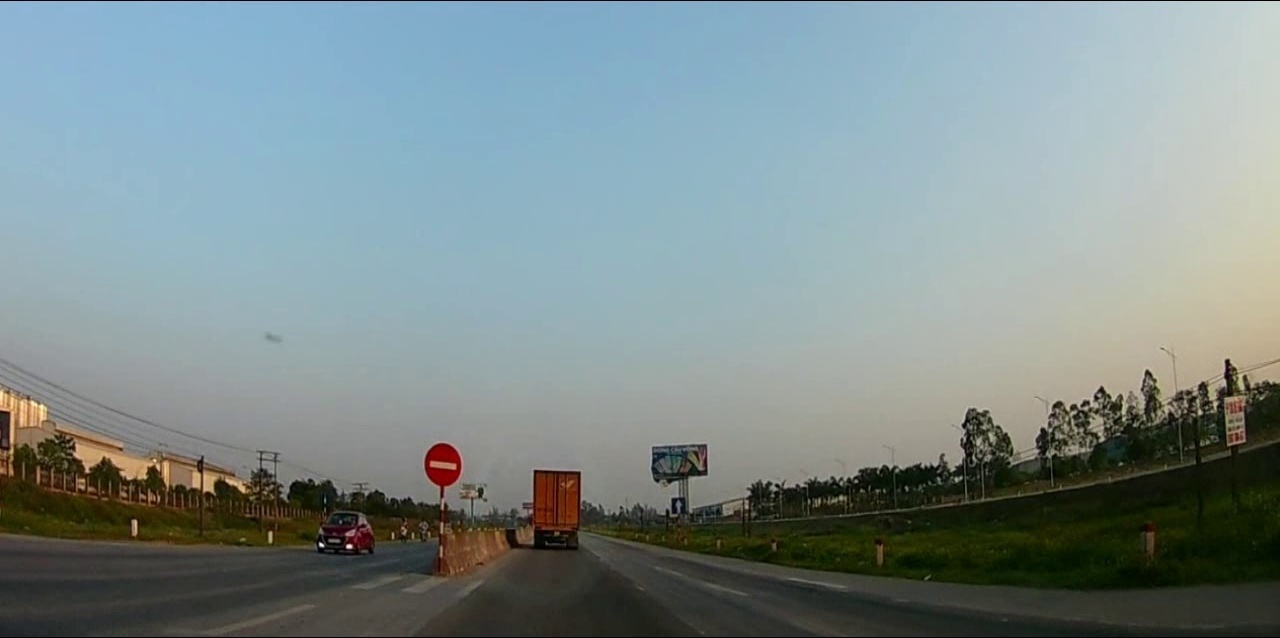Bien khac: (670, 495, 686, 515)
Cam di nguoc chieu: (424, 441, 462, 486)
